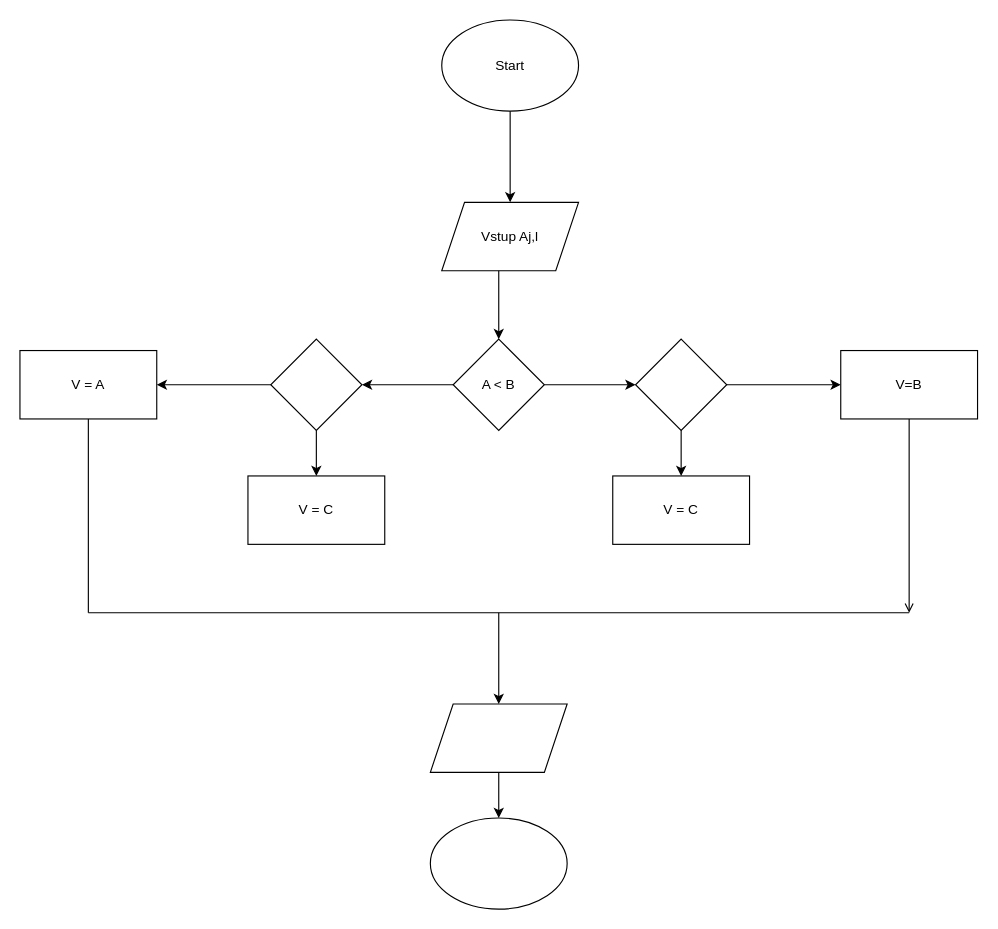
Some shapes in this 998 by 929 pixel diagram are drawn without their labels. The centre of each missing label's shape, as x and y in pixels:
"A < C" belongs at pixel 316 384.
"B < C" belongs at pixel 680 384.
"Vstup V" belongs at pixel 498 737.
